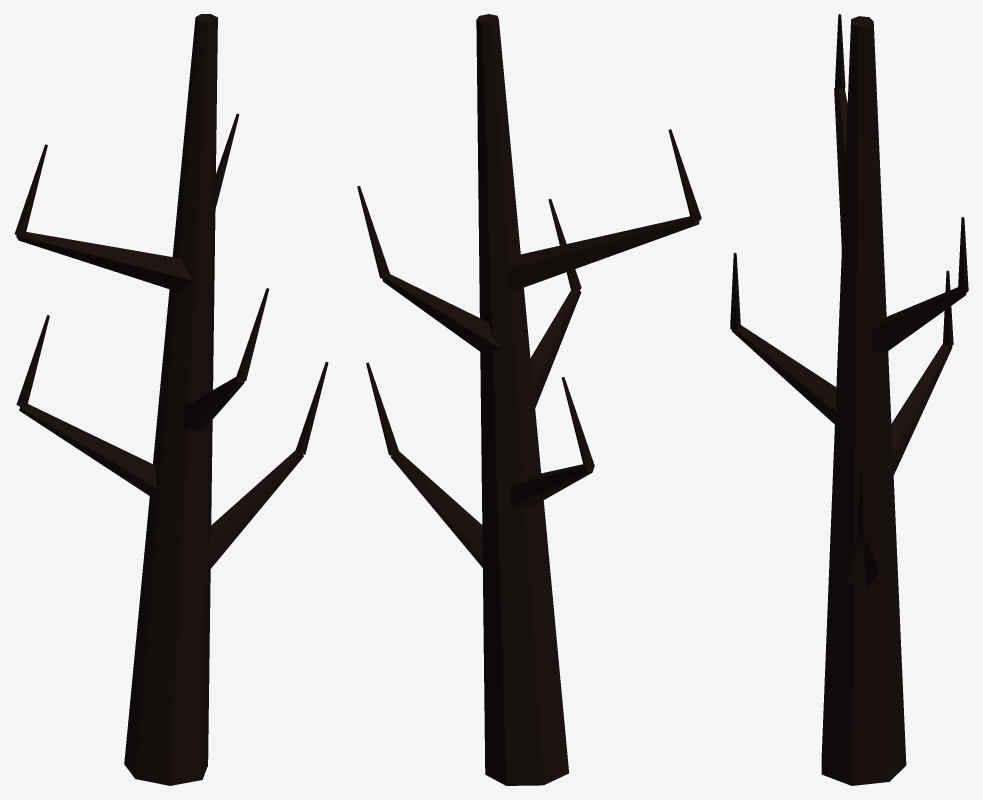
Rendered from Tree_Dead_02.fbx.
3 renders of one model, left to right at view 1: azimuth 30°, elevation 25°; view 2: azimuth 150°, elevation 25°; view 3: azimuth 270°, elevation 25°, orthographic. The views are drawn at different scales.
Parts seen in each view (by area): view 1: Tree_Dead_02_Trunk; view 2: Tree_Dead_02_Trunk; view 3: Tree_Dead_02_Trunk.
Boxes of the visible parts, bbox=[...] form: Tree_Dead_02_Trunk: bbox=[14, 14, 328, 785]; Tree_Dead_02_Trunk: bbox=[357, 14, 701, 785]; Tree_Dead_02_Trunk: bbox=[730, 14, 968, 785].
Size of the model in its own units: 2.42 by 5.32 by 1.5.
1 material, 1 textured.
